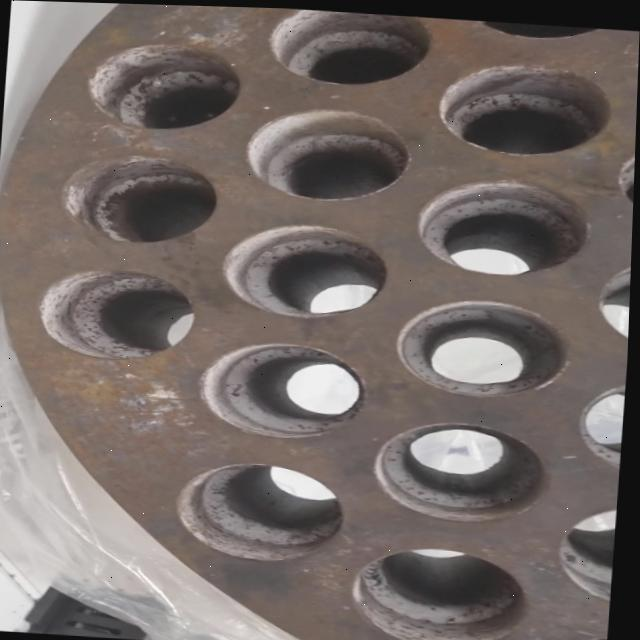Hole: (375, 414, 557, 522), (395, 291, 573, 398), (176, 455, 351, 563), (416, 171, 594, 276), (353, 540, 536, 640), (200, 335, 372, 439), (437, 55, 615, 155), (221, 217, 395, 319), (244, 101, 414, 202), (37, 264, 200, 362), (62, 150, 223, 245), (87, 37, 247, 132), (266, 6, 435, 86), (559, 496, 620, 601), (580, 371, 628, 470), (444, 15, 626, 40), (598, 247, 633, 347), (618, 124, 637, 217), (545, 625, 612, 640)
